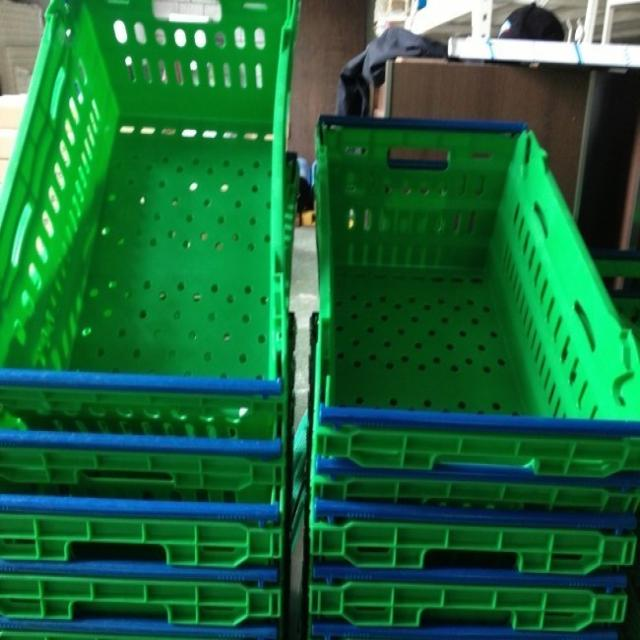basket: (311, 117, 640, 639)
